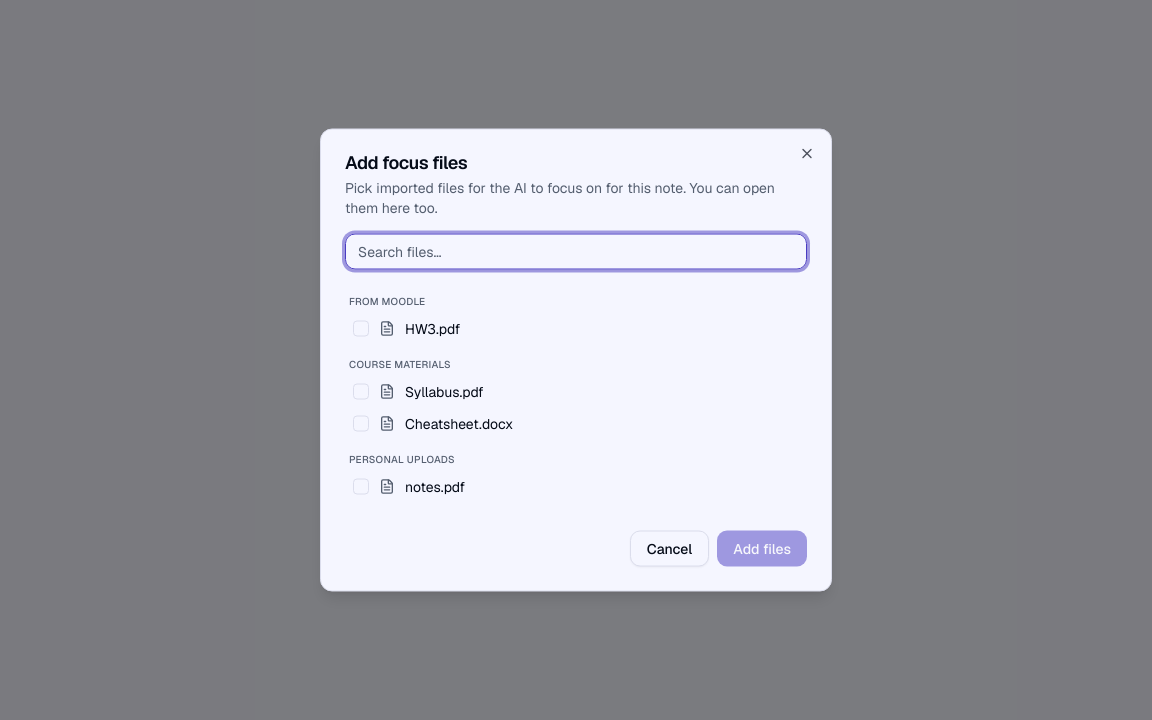
Test: AddFilesDialog › shows an error and keeps the dialog open when confirm fails
The image size is (1152, 720).
expect the text "HW3.pdf" is shown: met, box [405,318,460,338]
What coordinates should you click on to do the following:
click the button "HW3.pdf"
I would click on:
 (433, 328)
Its box is [345,312,807,344].
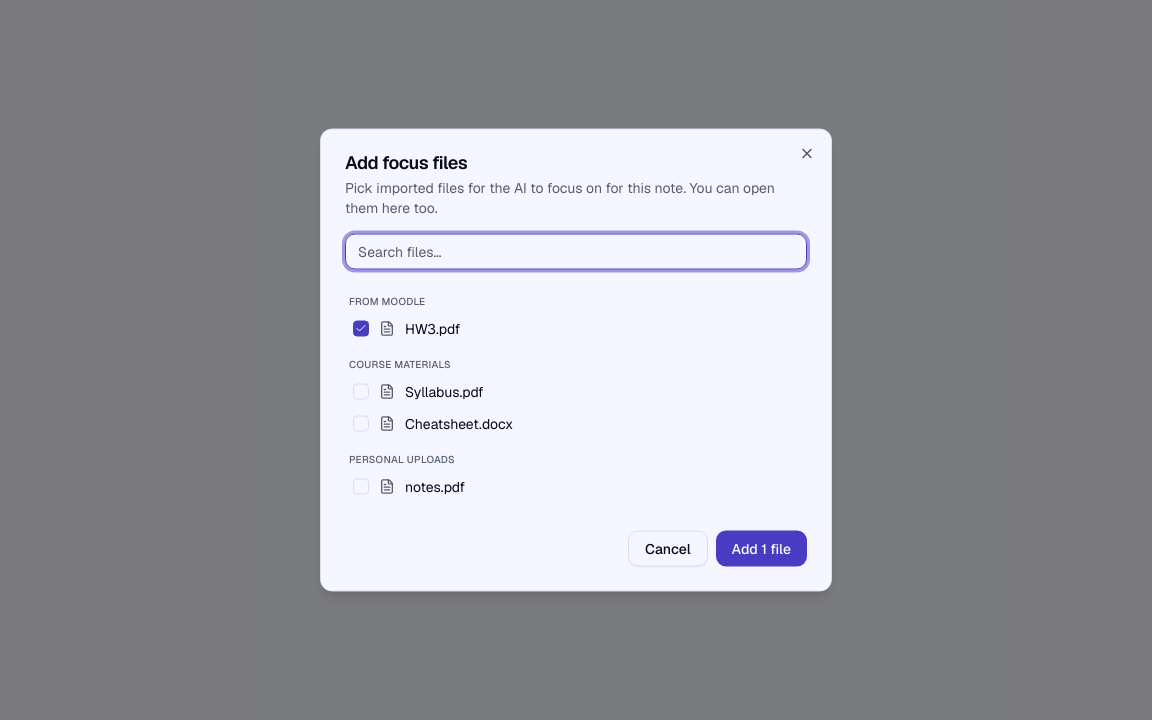
What coordinates should you click on to do the following:
click the button "Add 1 file"
I would click on:
 (761, 548)
Its box is [716,530,807,566].
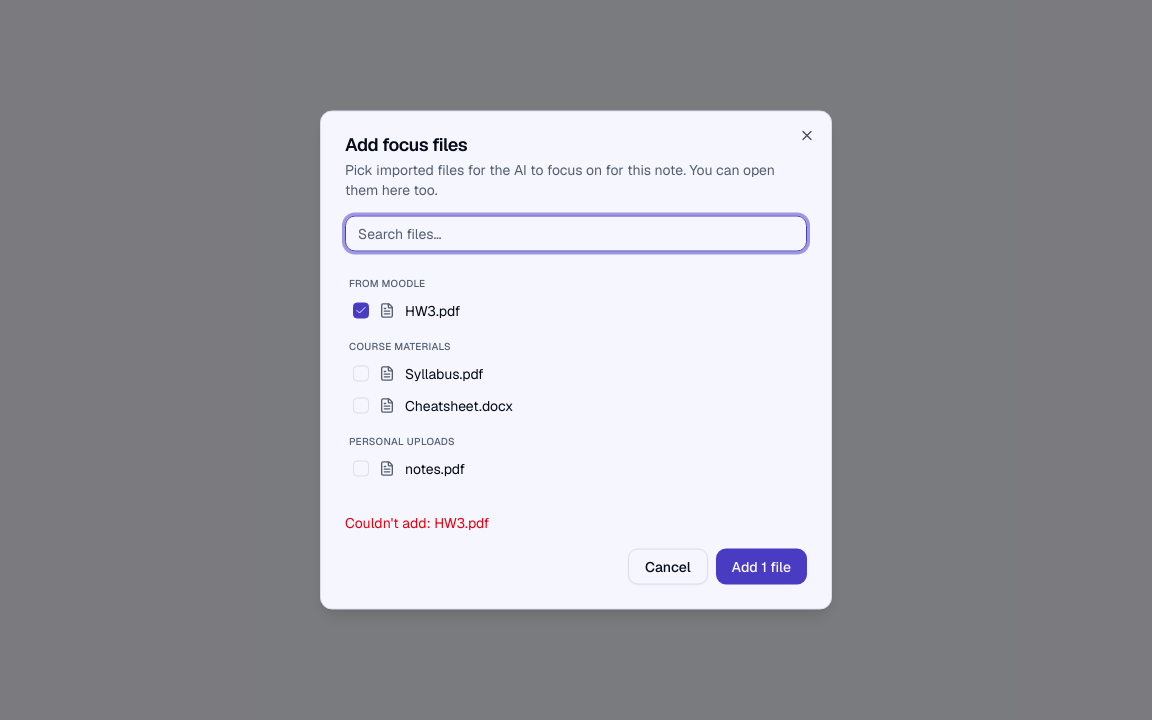
expect the message reads "Couldn't add: HW3.pdf": met, box [345,514,489,532]
